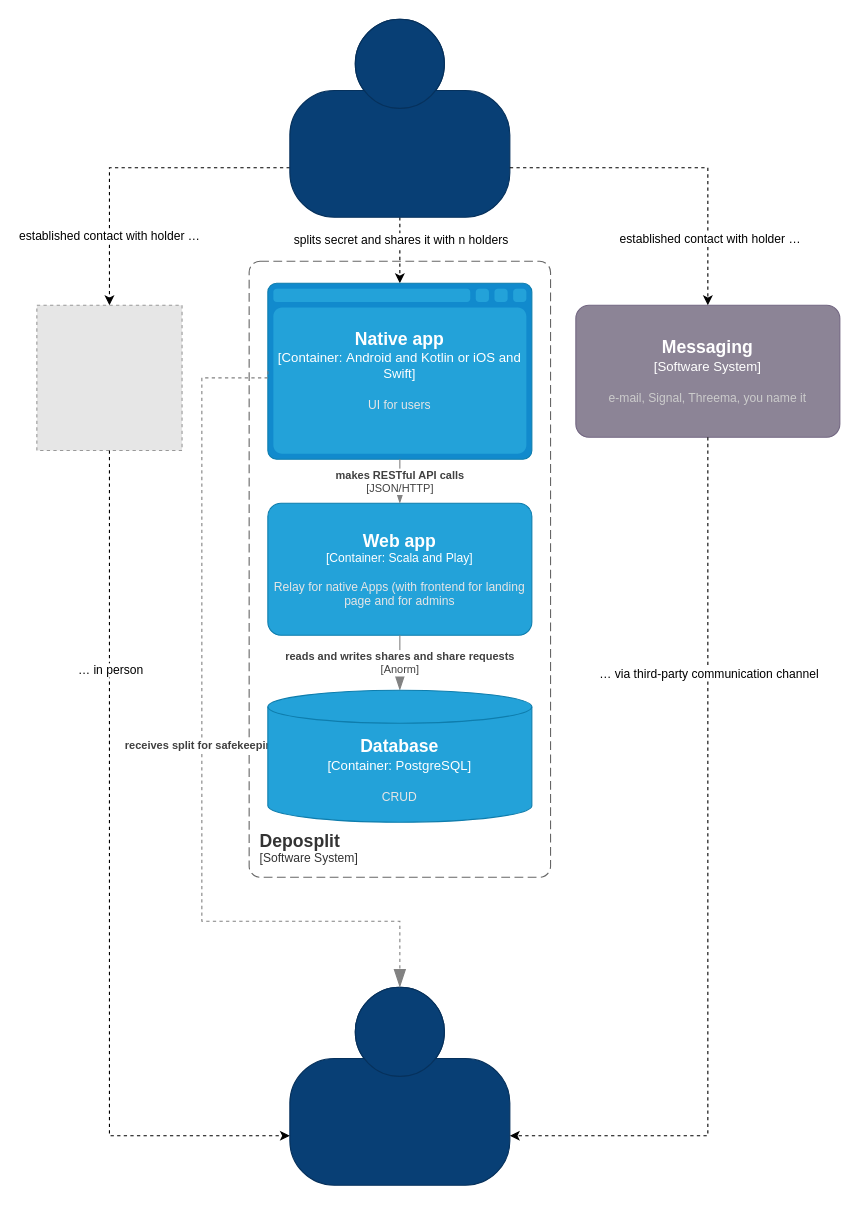
This 859x1205 diagram has some shape labels left out. Grey dashed boxes stand in for pictures. Each missing label, with the centre of its shape:
"Secret Sharer [Person] has a secret" goes at [399,117].
"Share Holder [Person] has a secret split" goes at [399,1085].
